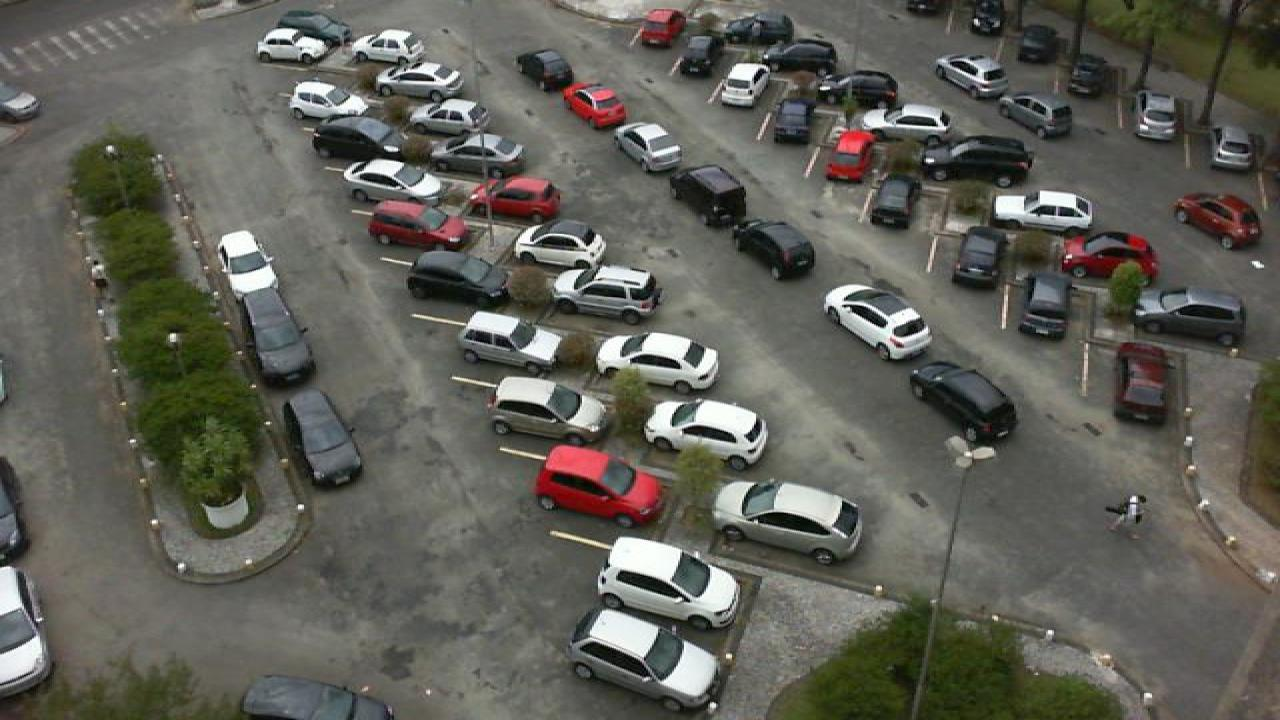Car: (570, 607, 720, 711), (594, 537, 740, 630), (712, 478, 862, 565), (534, 443, 668, 528), (644, 398, 768, 470), (908, 361, 1016, 443), (486, 375, 610, 446), (822, 284, 934, 361), (596, 332, 722, 394), (284, 391, 364, 488), (458, 310, 566, 378), (240, 675, 398, 720), (240, 288, 314, 382), (1134, 289, 1250, 348), (554, 264, 662, 323), (404, 250, 514, 305), (1172, 190, 1266, 251), (920, 134, 1034, 184), (368, 200, 470, 252), (1058, 229, 1158, 282), (734, 218, 816, 282), (514, 220, 606, 276), (672, 164, 748, 228), (1112, 342, 1170, 425), (990, 190, 1098, 234), (342, 158, 444, 204), (308, 117, 408, 161), (432, 132, 526, 178), (214, 230, 276, 298), (476, 174, 562, 223), (1016, 271, 1072, 340), (952, 224, 1010, 289), (996, 94, 1074, 140), (374, 62, 464, 101), (614, 121, 684, 171), (934, 53, 1010, 99), (860, 102, 954, 138), (290, 80, 368, 122), (408, 98, 490, 137), (562, 82, 628, 128), (352, 28, 426, 66), (868, 176, 920, 230), (822, 128, 874, 182), (256, 28, 330, 65), (276, 9, 354, 44), (762, 38, 842, 71), (824, 70, 898, 105), (516, 48, 574, 92), (716, 62, 770, 109), (672, 31, 726, 78), (724, 12, 796, 45), (1136, 90, 1180, 142), (772, 98, 816, 146), (1212, 125, 1254, 172), (638, 9, 688, 47), (1016, 23, 1062, 64), (1070, 53, 1110, 97), (968, 0, 1008, 35)
